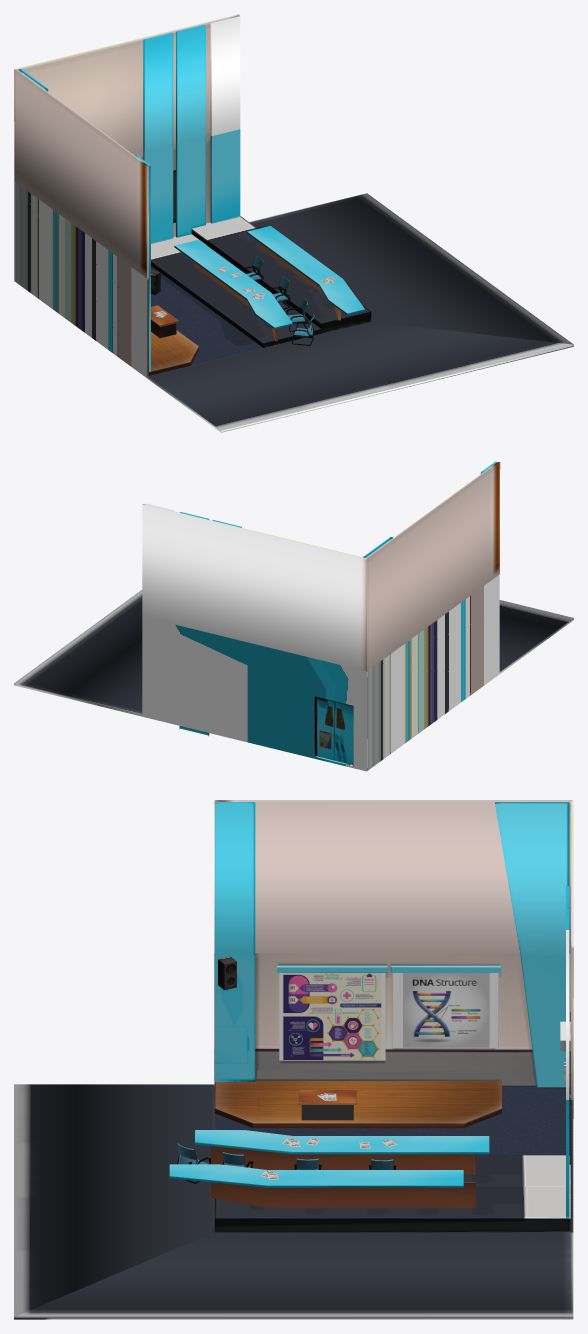
Rendered from Interior_Edu.fbx.
The picture shows the model from 3 angles, top to bottom: view 1: azimuth 30°, elevation 25°; view 2: azimuth 150°, elevation 25°; view 3: azimuth 270°, elevation 25°; orthographic projection. The views are drawn at different scales.
Visible parts, largest first — view 1: interior, chair; view 2: interior; view 3: interior, chair.
Boxes of the visible parts, bbox=[...] form: interior: bbox=[14, 14, 573, 432]; chair: bbox=[240, 256, 314, 345]; interior: bbox=[14, 461, 573, 771]; interior: bbox=[14, 800, 573, 1319]; chair: bbox=[177, 1143, 396, 1183].
Size of the model in its own units: 82.41 by 48.5 by 83.73.
Materials: 1 (1 with a texture image).
